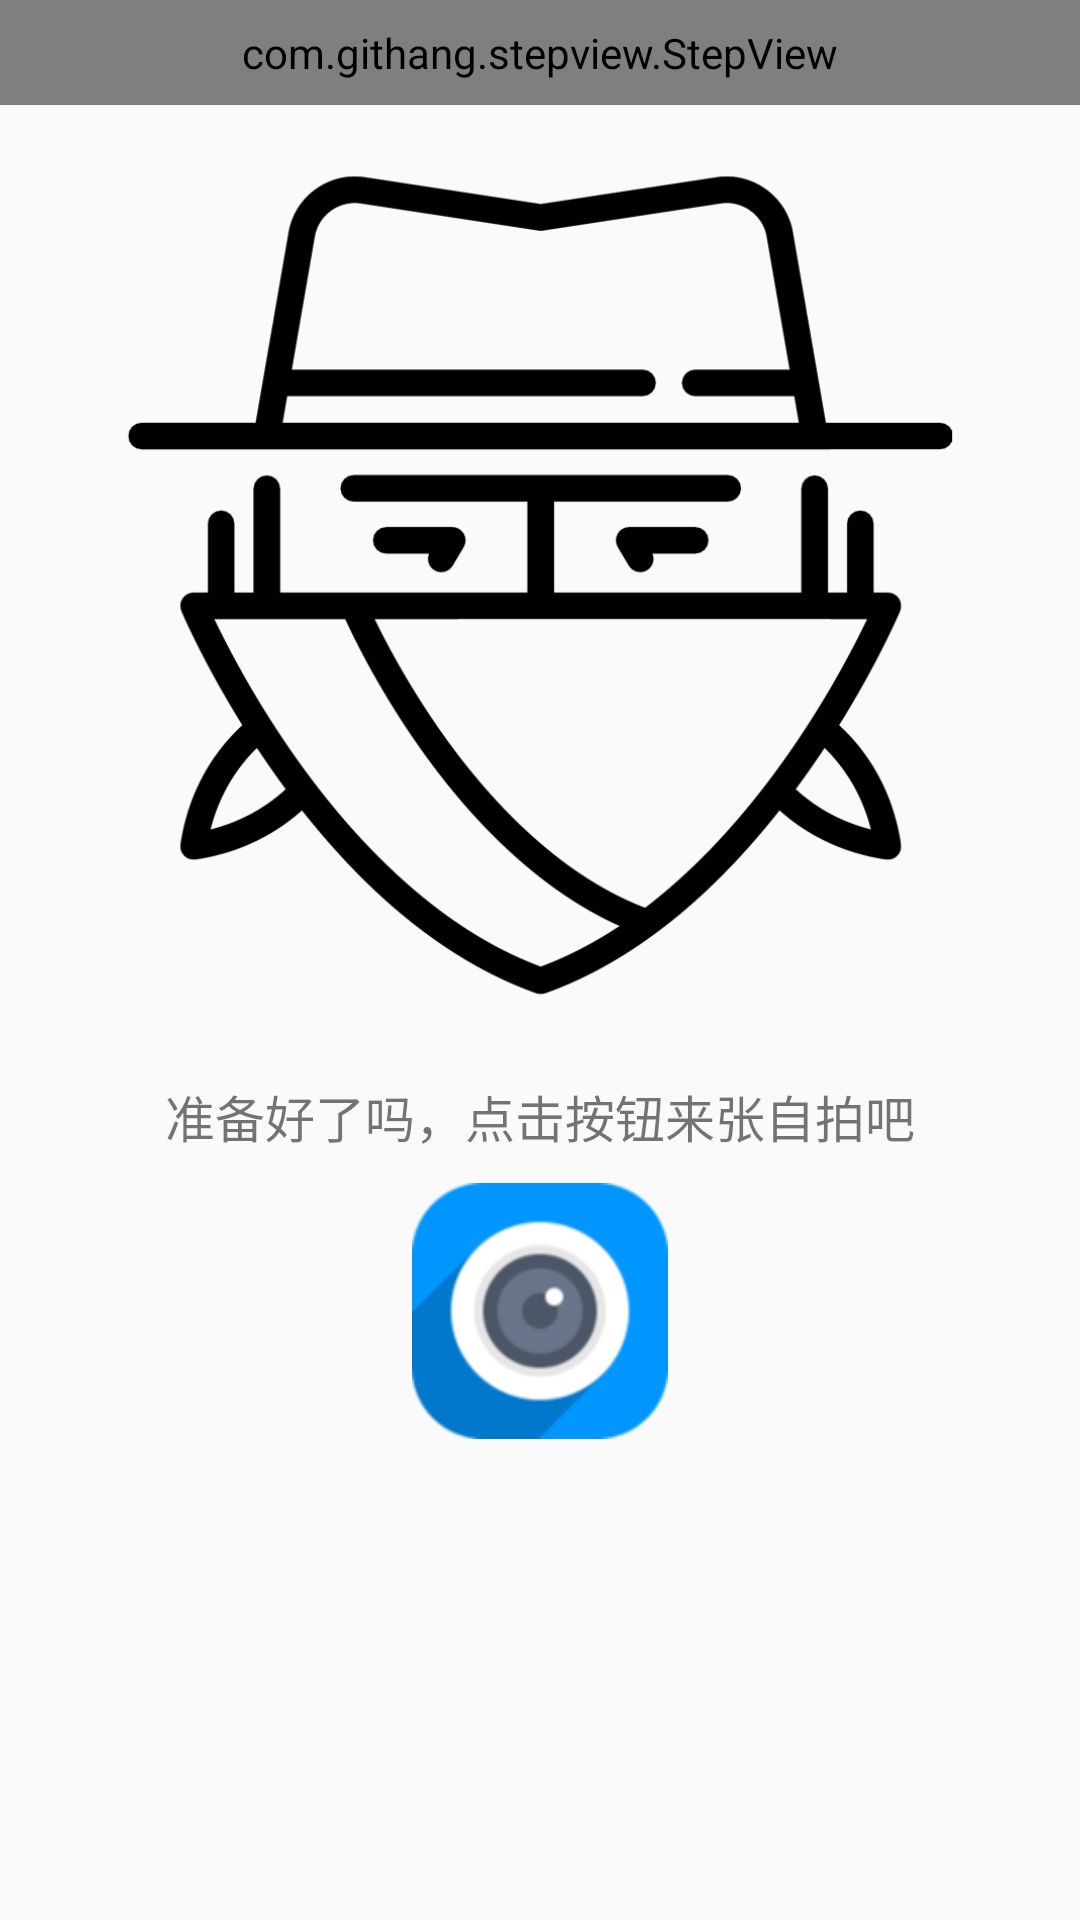

Point at icon controls on the screen. Image size 1080px×1920px, points as (x=x, y=y).
camera: (x=540, y=1311)
